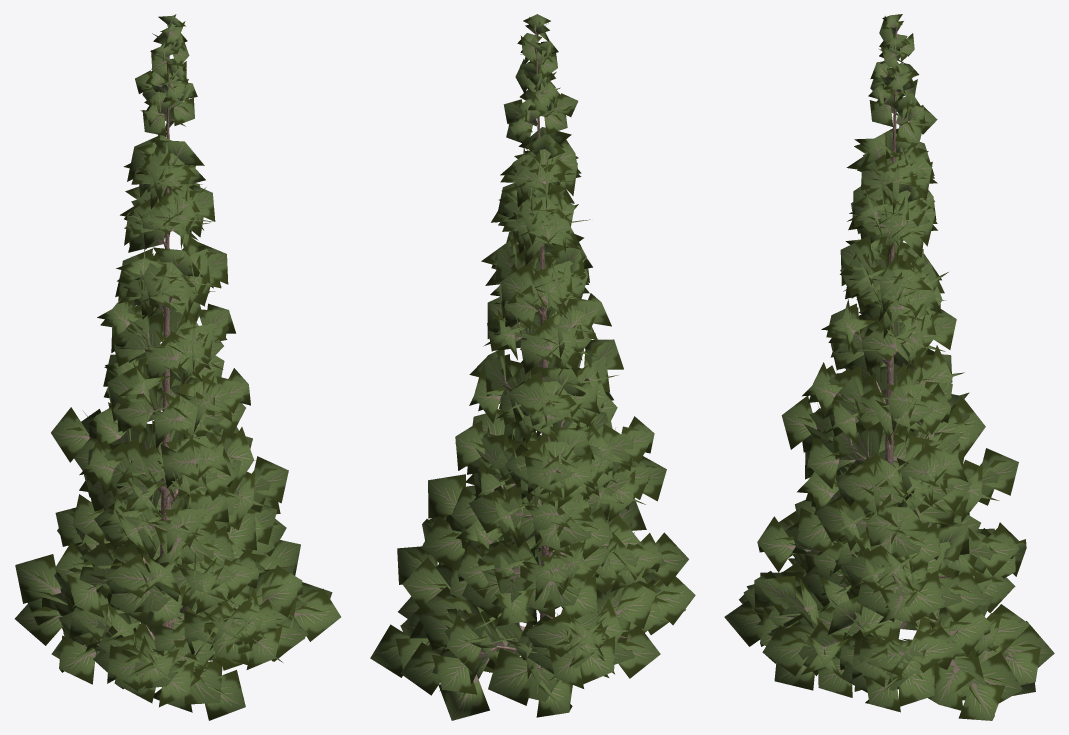
The model's file is fir-02.gltf.
3 views of the same model, side by side, from view 1: azimuth 30°, elevation 25°; view 2: azimuth 150°, elevation 25°; view 3: azimuth 270°, elevation 25° (orthographic).
Parts seen in each view (by area): view 1: fir-02; view 2: fir-02; view 3: fir-02.
Part boxes in pixels (x1,y1,x2,y2): fir-02: (15,14,340,720); fir-02: (370,14,695,720); fir-02: (724,14,1054,720).
Bounding box in the file's own units: 252 × 617 × 275.
Materials: 2 (2 with a texture image).
